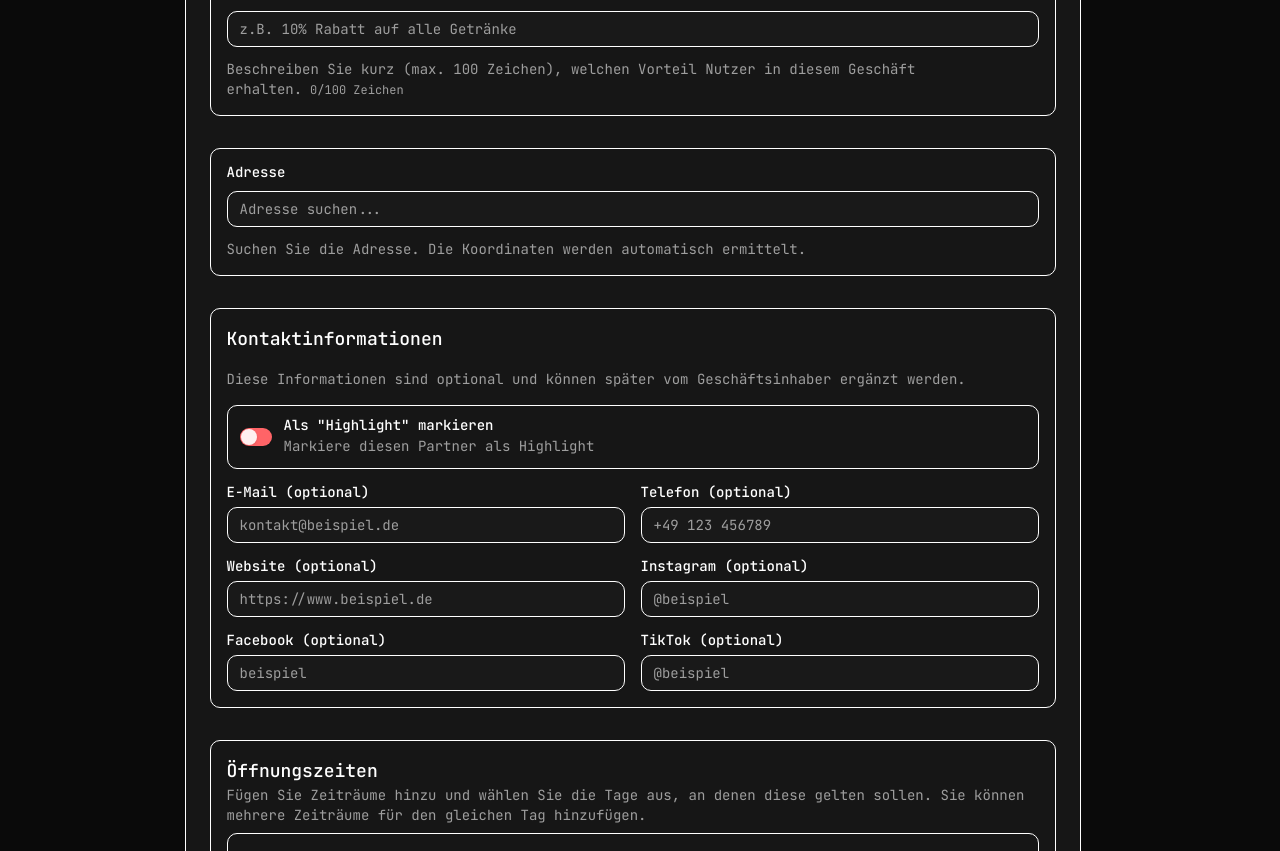
Test case: CreateBusiness Component › Promoted Status › sollte Promoted-Status-Text dynamisch anzeigen
(page scrolled)
Expected: the text "Markiere diesen Partner als Highlight" is shown, top-left (284, 436), bottom-right (594, 456)
Click the switch named "Als \"Highlight\" markieren" at (256, 437), box top-left (240, 428), bottom-right (272, 446)
(page scrolled)
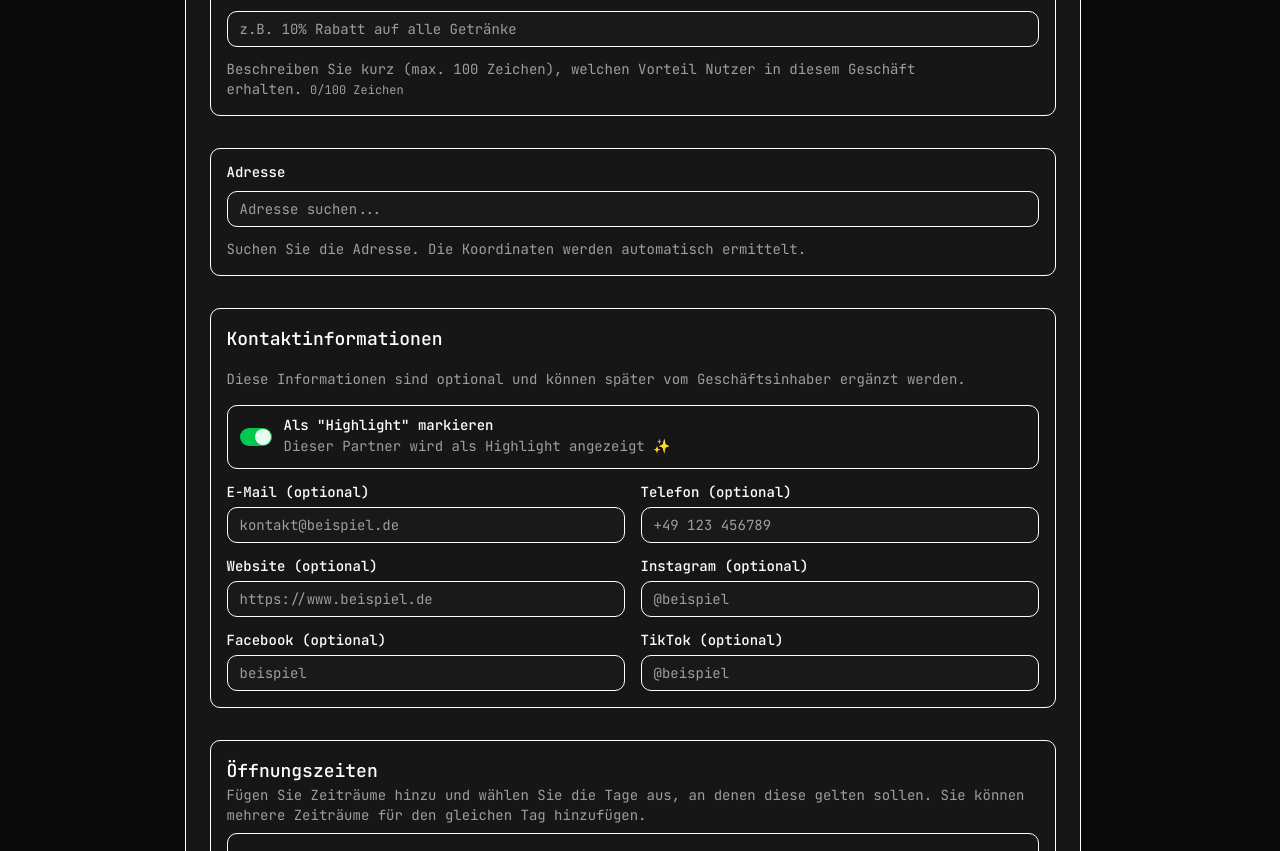
Expected: the text "Dieser Partner wird als Highlight angezeigt ✨" is shown, top-left (284, 436), bottom-right (671, 456)
